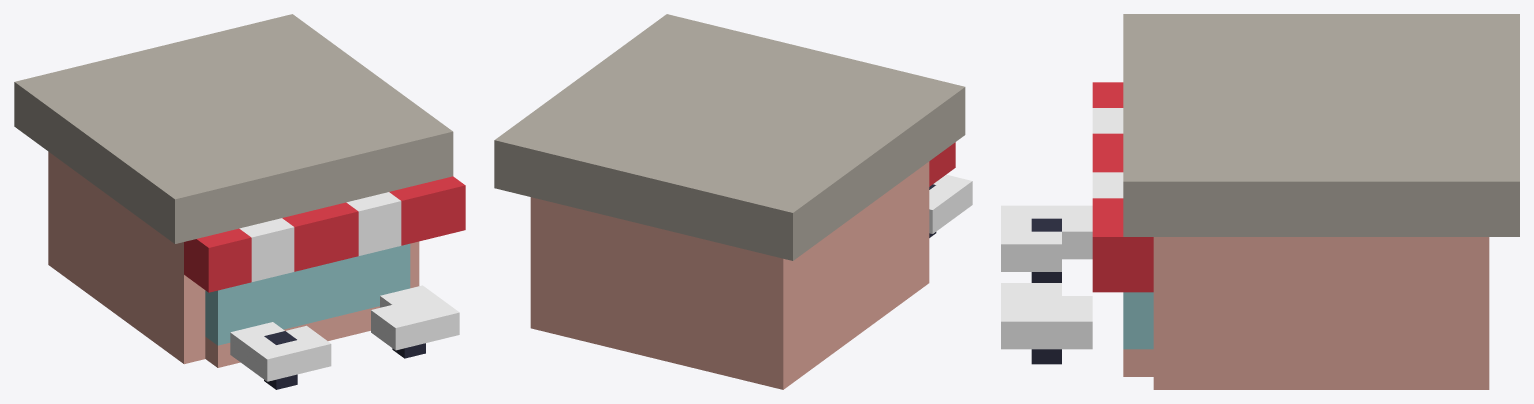
File: cafe.glb
3 renders of one model, left to right at view 1: azimuth 30°, elevation 25°; view 2: azimuth 150°, elevation 25°; view 3: azimuth 270°, elevation 25°, orthographic. The views are drawn at different scales.
Visible parts, largest first — view 1: cafe_roof_flat, cafe_wall_pink, cafe_white, cafe_red, cafe_glass, cafe_black; view 2: cafe_roof_flat, cafe_wall_pink, cafe_white, cafe_red; view 3: cafe_roof_flat, cafe_wall_pink, cafe_white, cafe_red, cafe_glass, cafe_black.
Boxes of the visible parts, <box> form: cafe_roof_flat: <box>14,14,453,243</box>; cafe_wall_pink: <box>48,151,419,367</box>; cafe_white: <box>230,192,459,381</box>; cafe_red: <box>184,176,465,292</box>; cafe_glass: <box>205,243,410,345</box>; cafe_black: <box>264,331,425,389</box>; cafe_roof_flat: <box>494,14,965,260</box>; cafe_wall_pink: <box>530,161,929,389</box>; cafe_white: <box>929,174,972,233</box>; cafe_red: <box>929,142,955,186</box>; cafe_roof_flat: <box>1123,14,1519,236</box>; cafe_wall_pink: <box>1123,237,1489,389</box>; cafe_white: <box>1001,108,1123,349</box>; cafe_red: <box>1092,82,1153,292</box>; cafe_glass: <box>1123,292,1153,349</box>; cafe_black: <box>1031,218,1061,364</box>.
Size of the model in its own units: 8.51 by 5.24 by 11.14.
